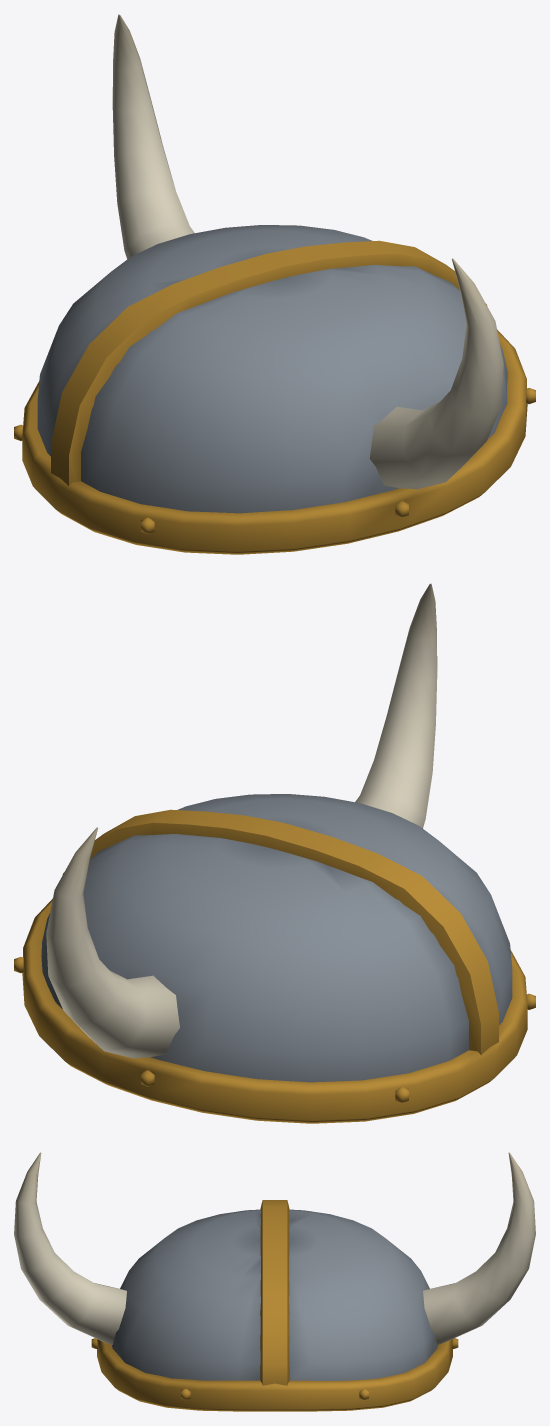
Rendered from acc_viking.glb.
The picture shows the model from 3 angles, top to bottom: view 1: azimuth 30°, elevation 25°; view 2: azimuth 150°, elevation 25°; view 3: azimuth 270°, elevation 25°; orthographic projection. The views are drawn at different scales.
Parts seen in each view (by area): view 1: acc_viking; view 2: acc_viking; view 3: acc_viking.
Boxes of the visible parts, bbox=[...] form: acc_viking: bbox=[14, 14, 535, 554]; acc_viking: bbox=[14, 583, 535, 1123]; acc_viking: bbox=[14, 1152, 535, 1411].
Bounding box in the file's own units: 0.608 × 0.4275 × 0.8918.
